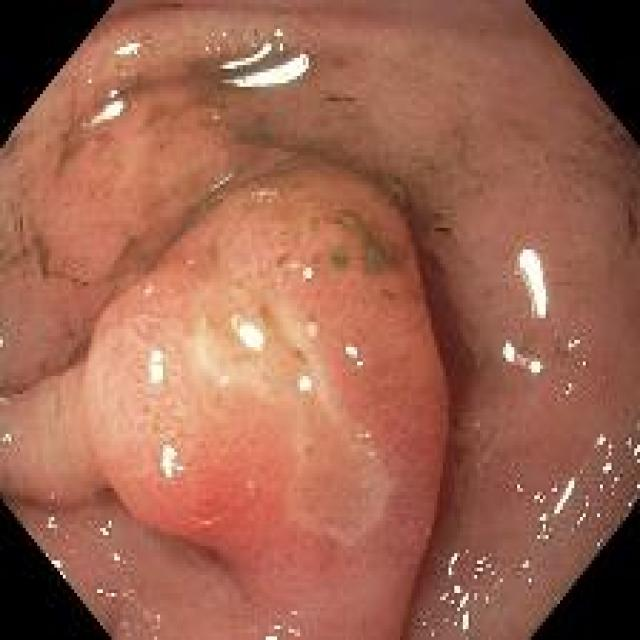Polyps: (1, 163, 449, 639)
